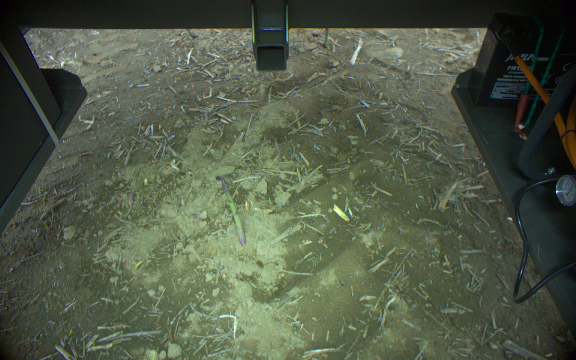aspa: (220, 178, 248, 247)
